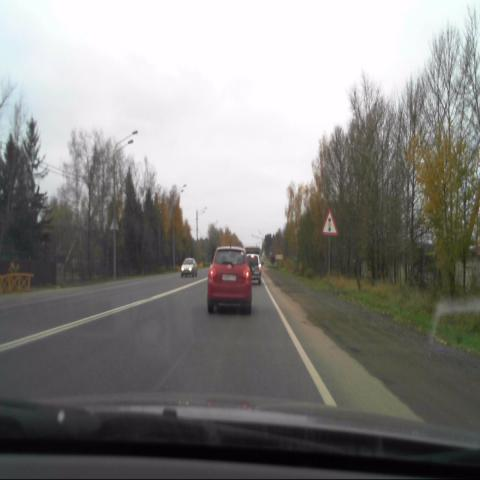1_8: (321, 209, 339, 236)
